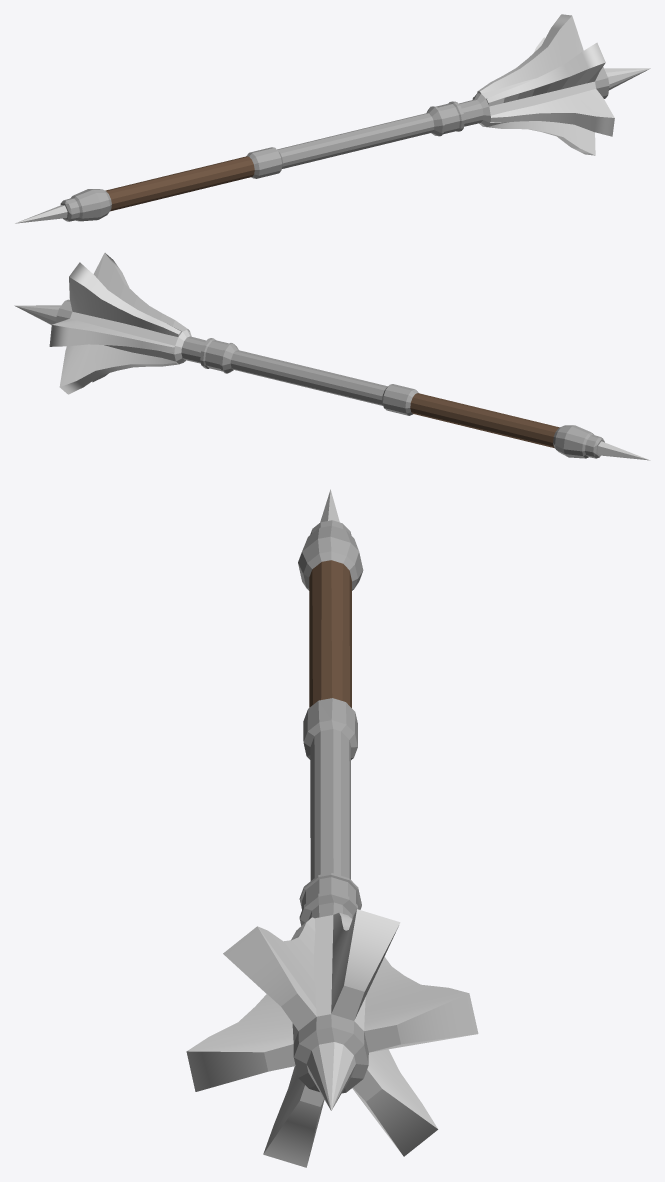
Rendered from Mace.FBX.
3 views of the same model, one above another, from view 1: azimuth 30°, elevation 25°; view 2: azimuth 150°, elevation 25°; view 3: azimuth 270°, elevation 25° (orthographic). The views are drawn at different scales.
Visible parts, largest first — view 1: polySurface10; view 2: polySurface10; view 3: polySurface10.
Boxes of the visible parts, x1,y1,x2,y2 form: polySurface10: [15, 14, 650, 223]; polySurface10: [14, 253, 650, 460]; polySurface10: [186, 489, 478, 1167].
Size of the model in its own units: 123 by 23.89 by 24.41.
